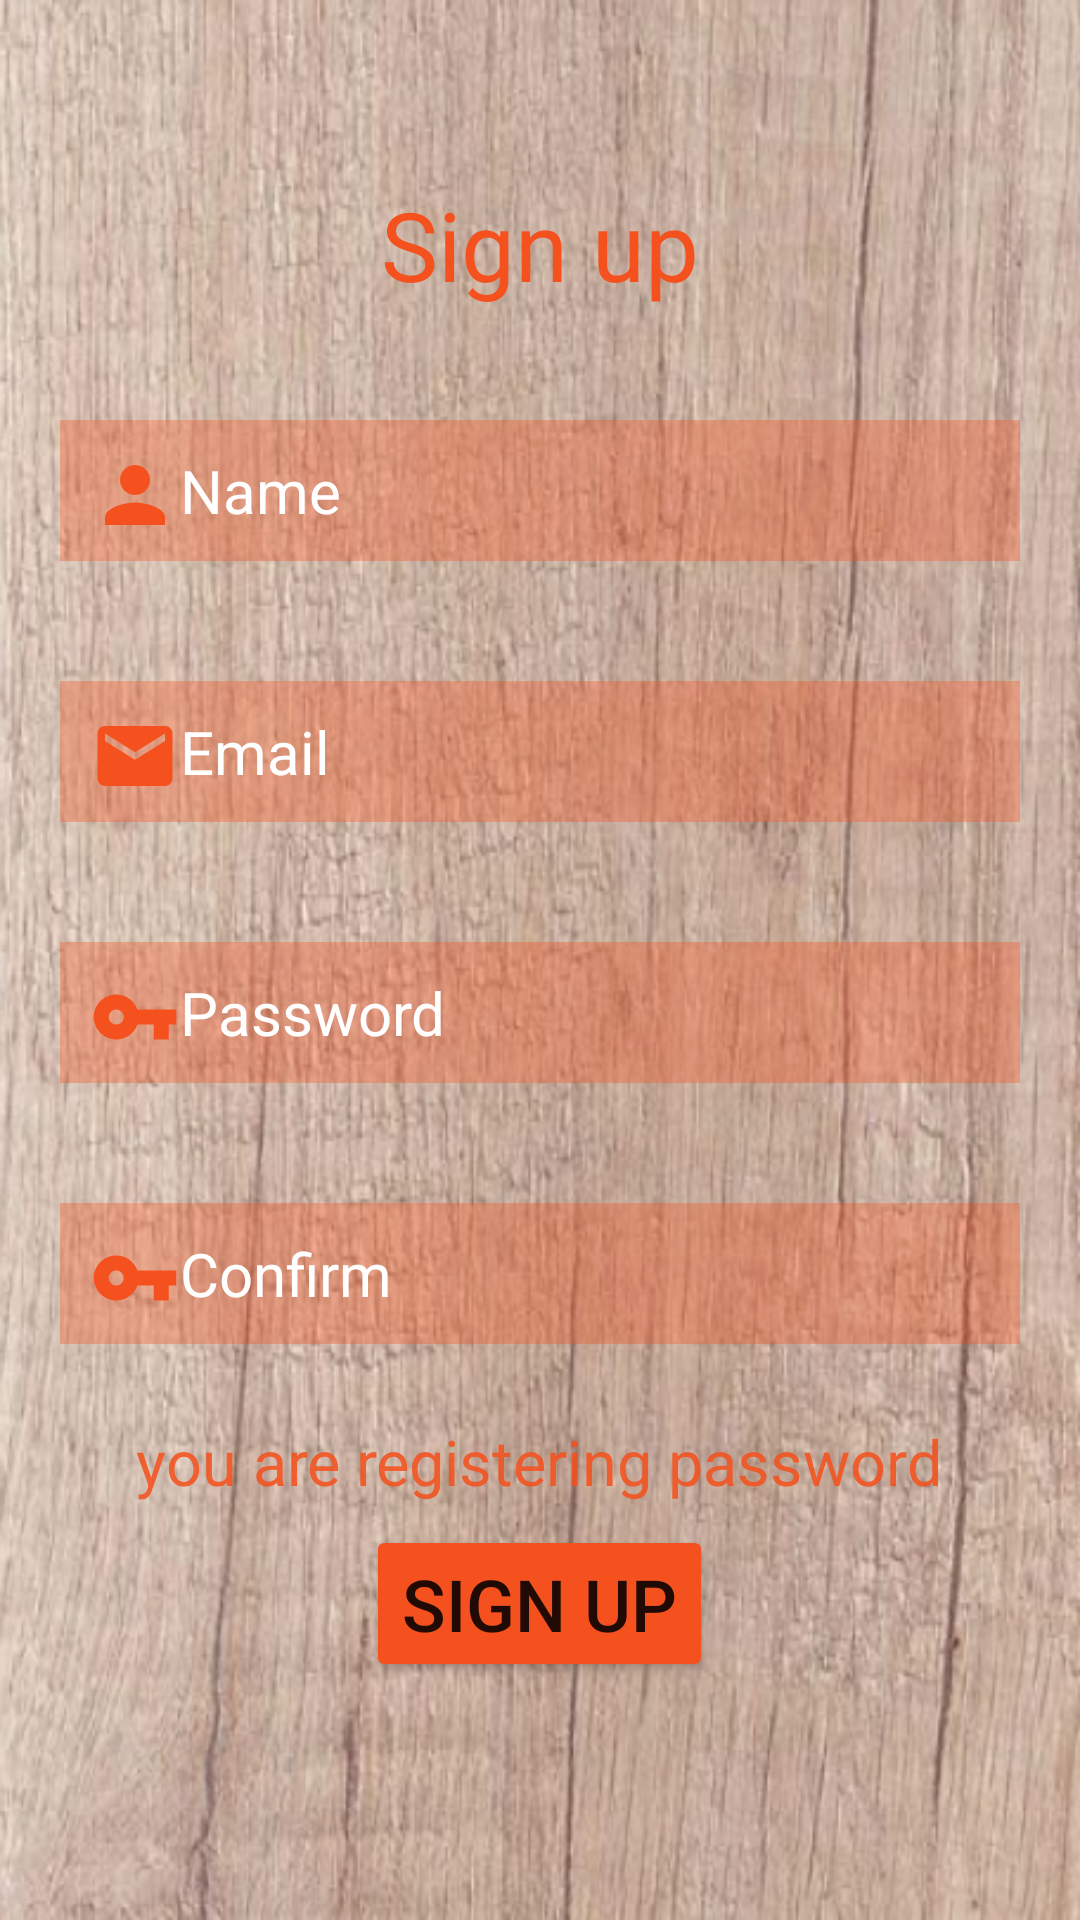

Named icons in this screenshot (1080*1920) and their centers, (x=x, y=y):
key: (x=135, y=1006), (x=136, y=1268)
person: (x=142, y=488)
